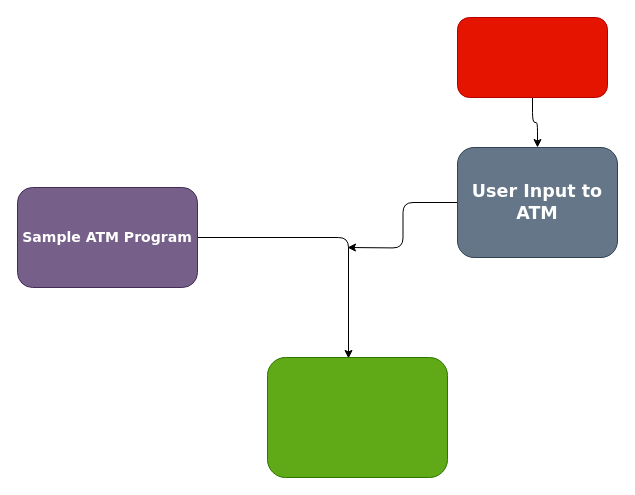
This 635x495 diagram has some shape labels left out. The shapes that lost their labels are listed below. From the top down, each one's centre as x and y in pixels, then its label:
At (x=532, y=57): "Terminal".
At (x=357, y=417): "SOLUTION".
